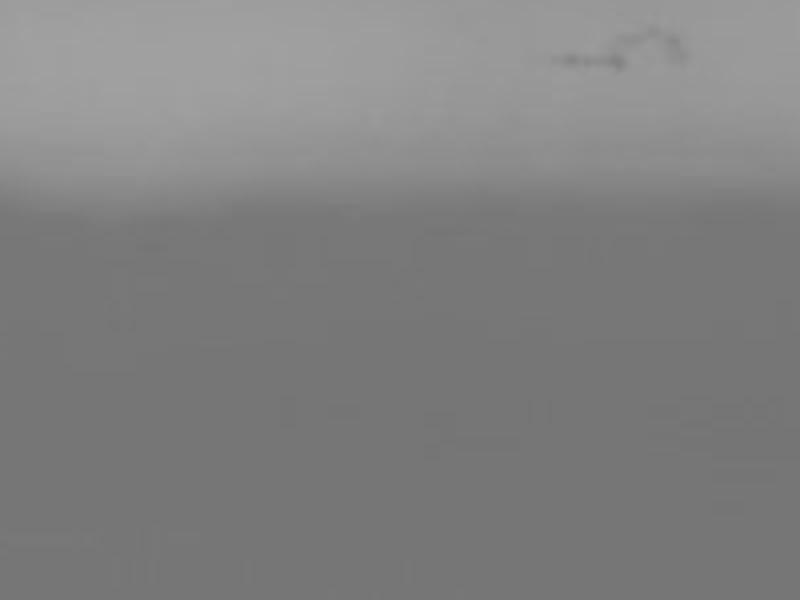defect: (658, 32, 691, 68), (600, 52, 628, 77), (615, 29, 644, 50), (554, 48, 575, 65), (580, 51, 598, 68), (641, 23, 660, 34)
